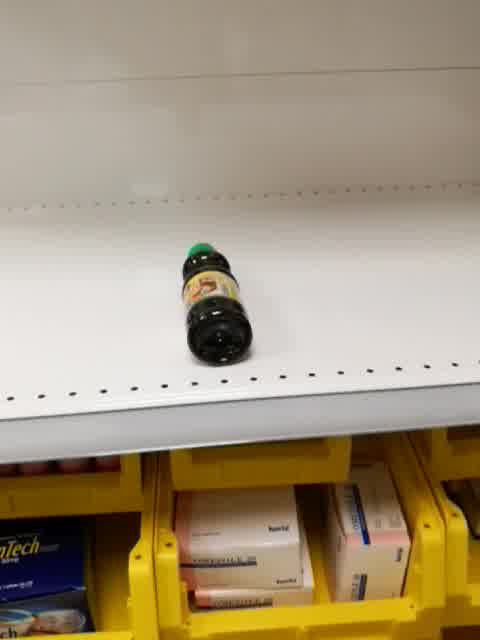cookingoil: (181, 239, 253, 367)
